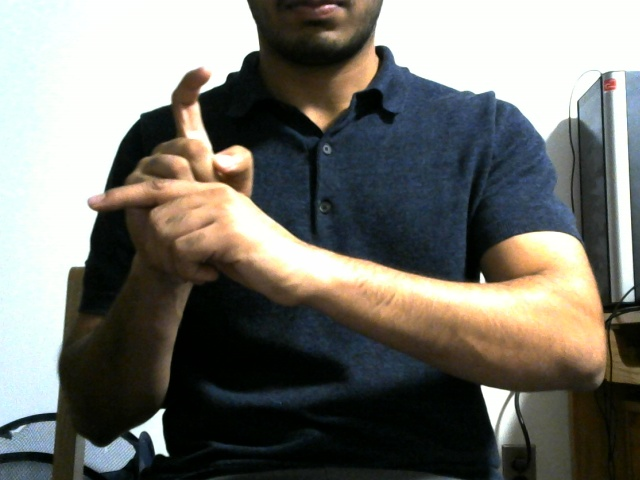call: (46, 48, 326, 316)
